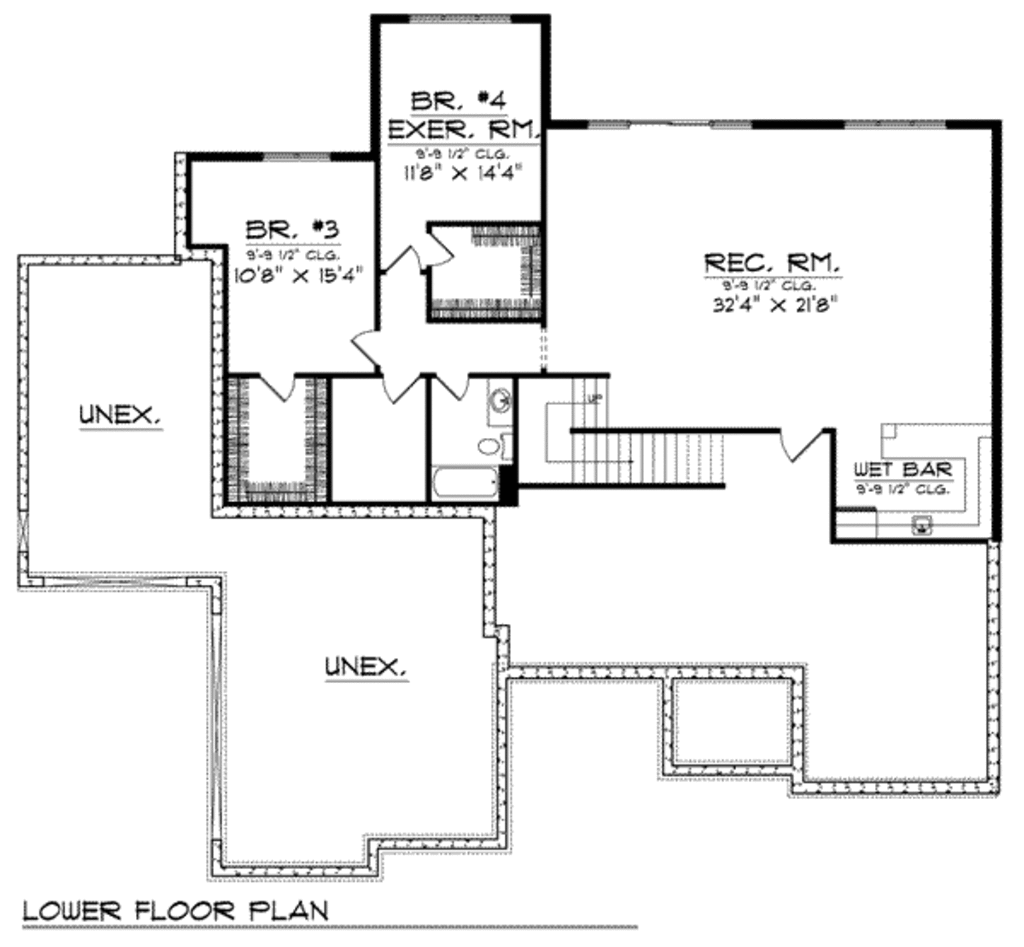door: (773, 423, 826, 469), (350, 325, 388, 377), (258, 364, 301, 405), (374, 370, 416, 408), (432, 370, 472, 408), (377, 243, 423, 276), (425, 224, 454, 276)
large_sink: (471, 430, 516, 463)
small_sink: (488, 377, 518, 432)
stairs: (511, 377, 724, 488)
tub: (429, 467, 503, 499)
windows: (580, 115, 760, 134), (398, 9, 517, 33), (254, 142, 345, 170), (837, 116, 950, 137)
